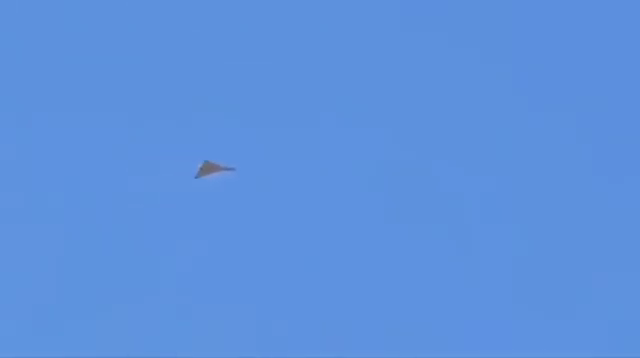shahed: (193, 158, 236, 180)
